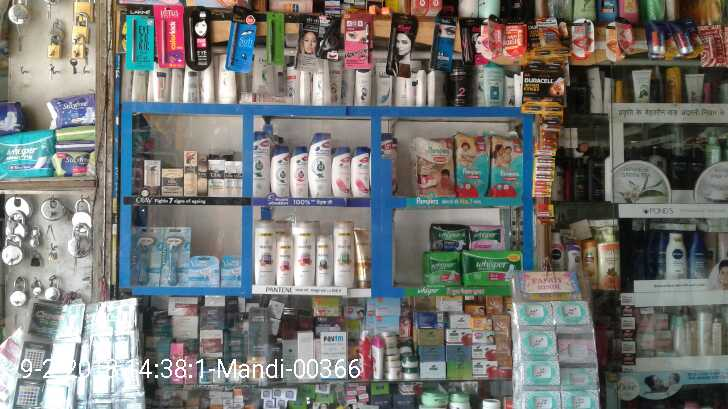venus: (134, 226, 163, 283), (163, 226, 189, 283), (189, 253, 220, 283), (220, 253, 240, 288)
